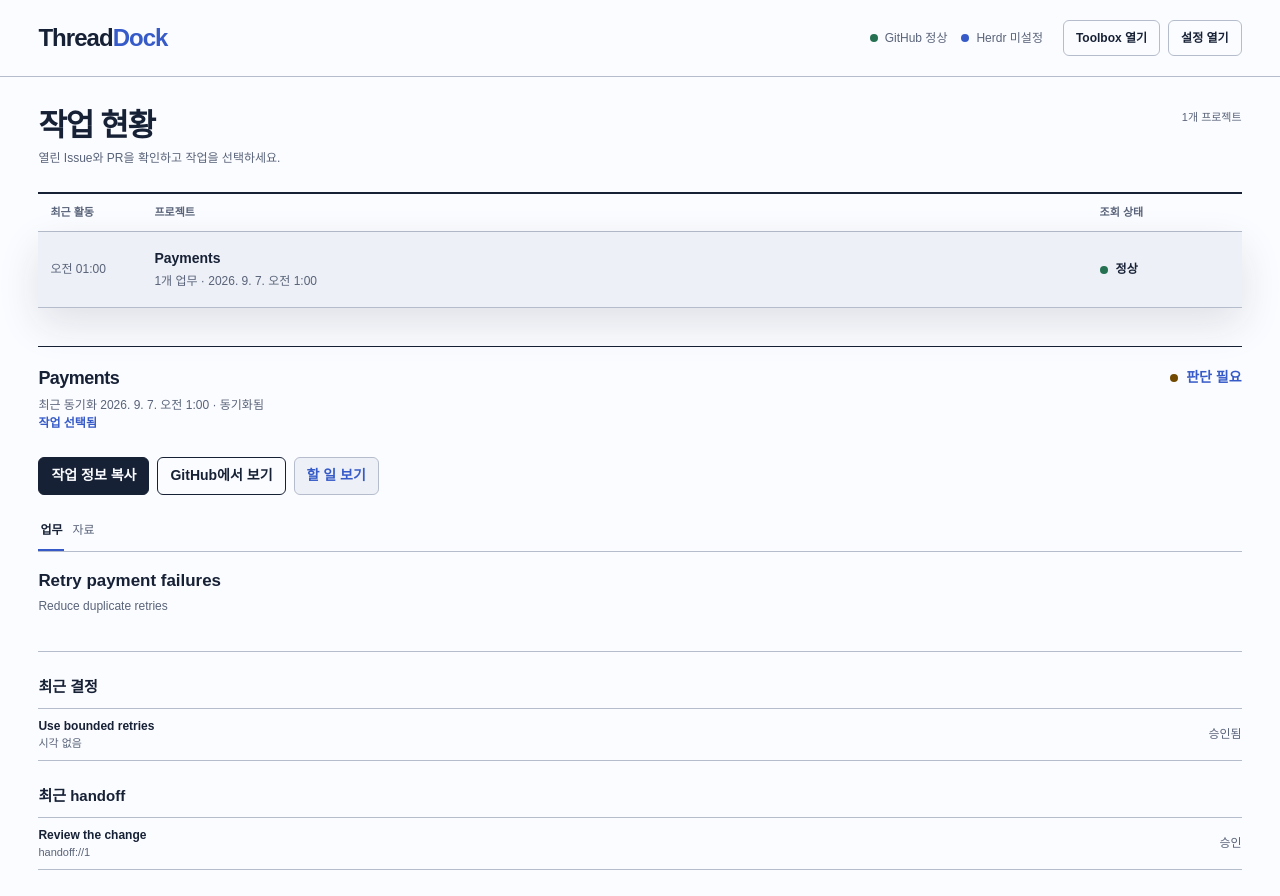
Test: monitor list and detail › shows bounded recovery copy when work-info clipboard is unavailable
This screenshot has width=1280, height=896.
Click the button "작업 정보 복사" at coordinates (94, 476), box [38,457,150,495]
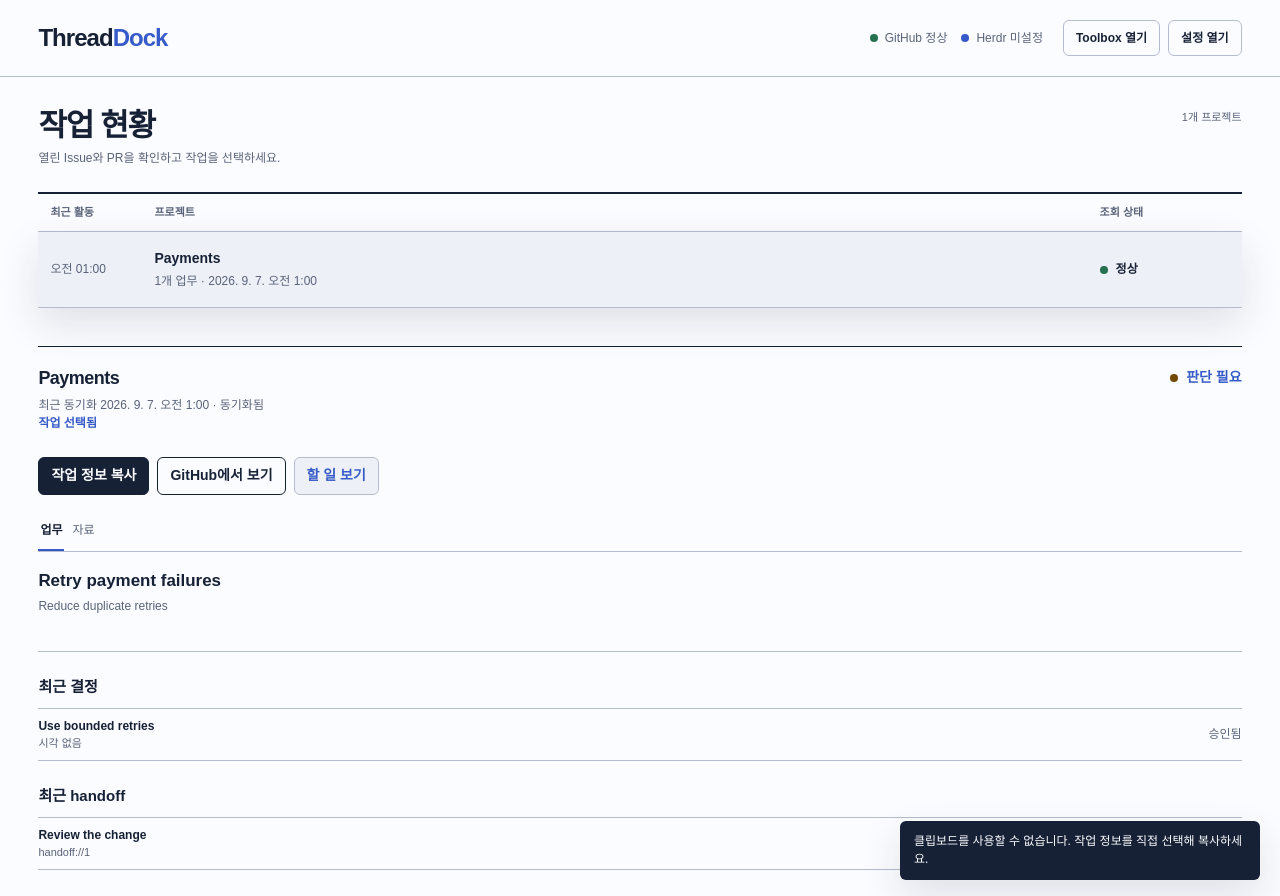
Check: the message shows "클립보드를 사용할 수 없습니다.", box [914,834,1242,866]
